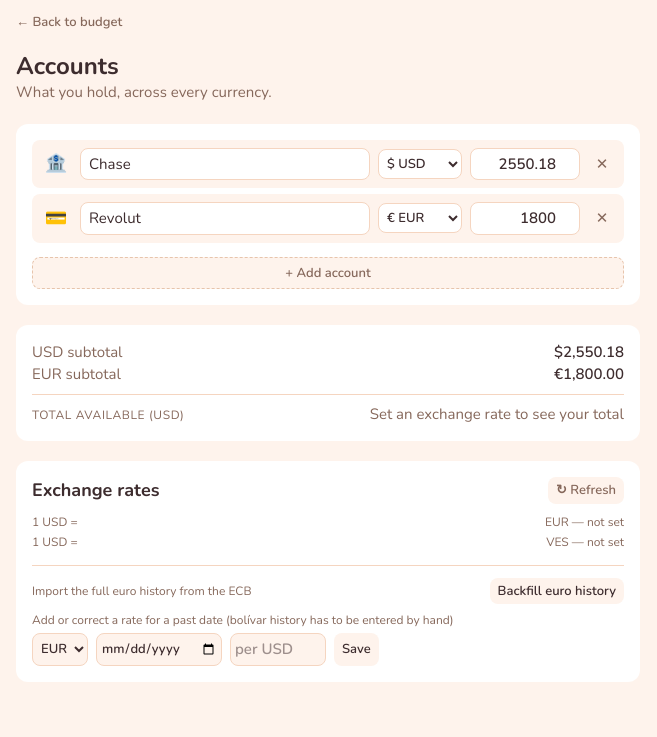
Test case: Accounts page › labels the new-account draft input
Click the button "+ Add account".
click(328, 273)  # box [32,257,624,289]
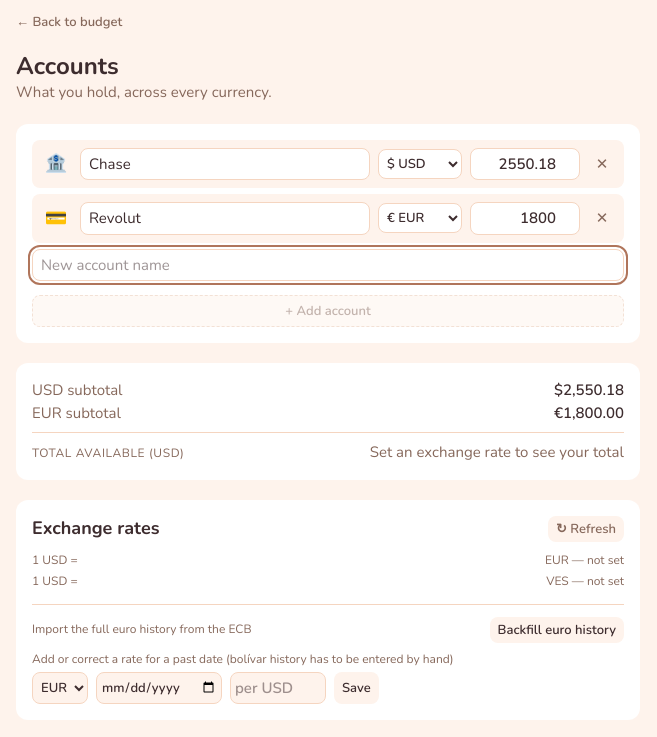
expect the field labelled "New account name" is shown: met, box [32,249,624,281]
